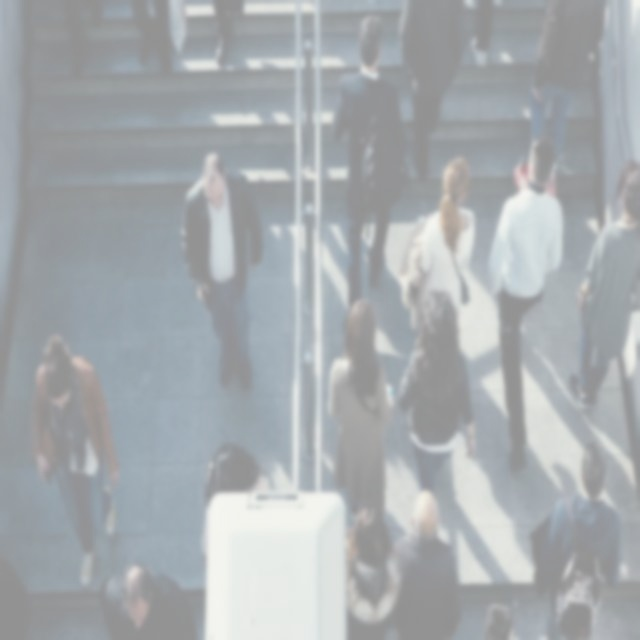pessoa: (486, 130, 566, 477), (329, 10, 412, 342), (26, 330, 122, 592), (178, 149, 266, 395), (564, 156, 640, 414), (527, 438, 625, 638), (326, 296, 399, 530), (398, 287, 477, 497), (529, 0, 609, 186), (398, 156, 476, 332), (397, 0, 469, 186), (388, 486, 463, 638), (198, 440, 275, 558), (96, 558, 203, 638), (346, 498, 406, 638), (461, 0, 504, 82), (0, 550, 32, 638), (476, 597, 523, 639)
